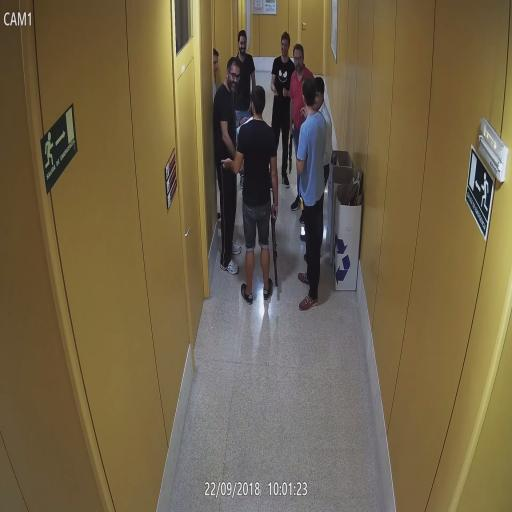Handgun: (290, 117, 298, 135)
